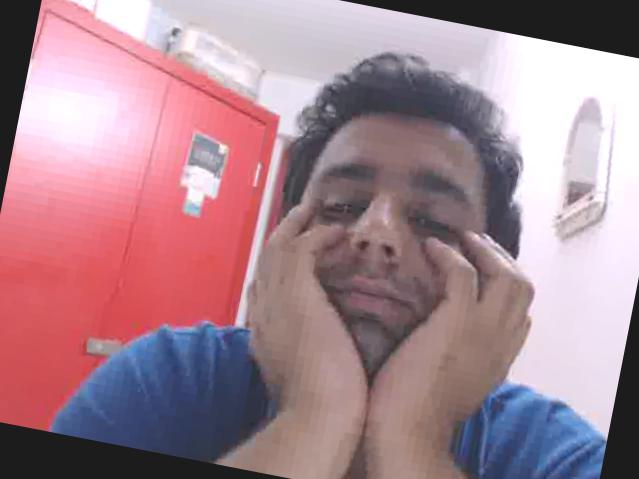bosan: (260, 81, 518, 389)
